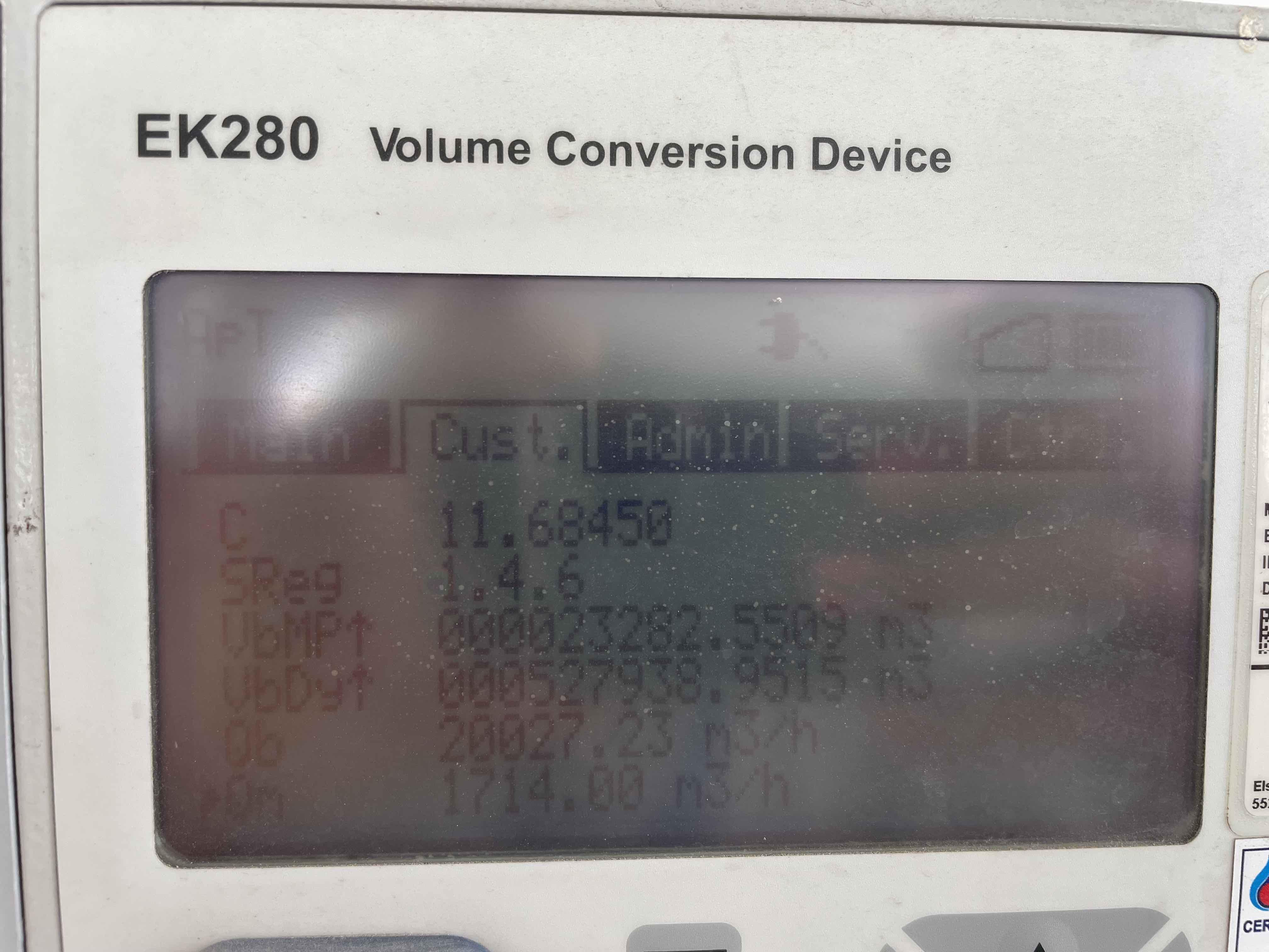digital_screen: (148, 256, 1225, 860)
